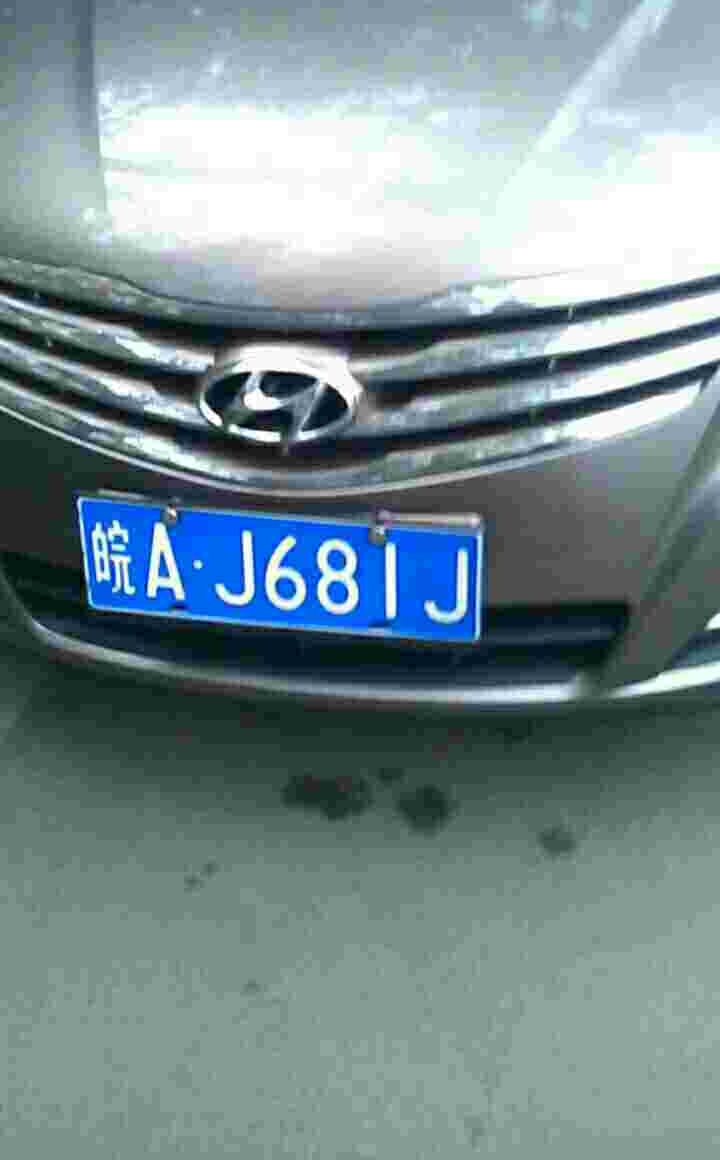license_plate: (94, 490, 482, 642)
